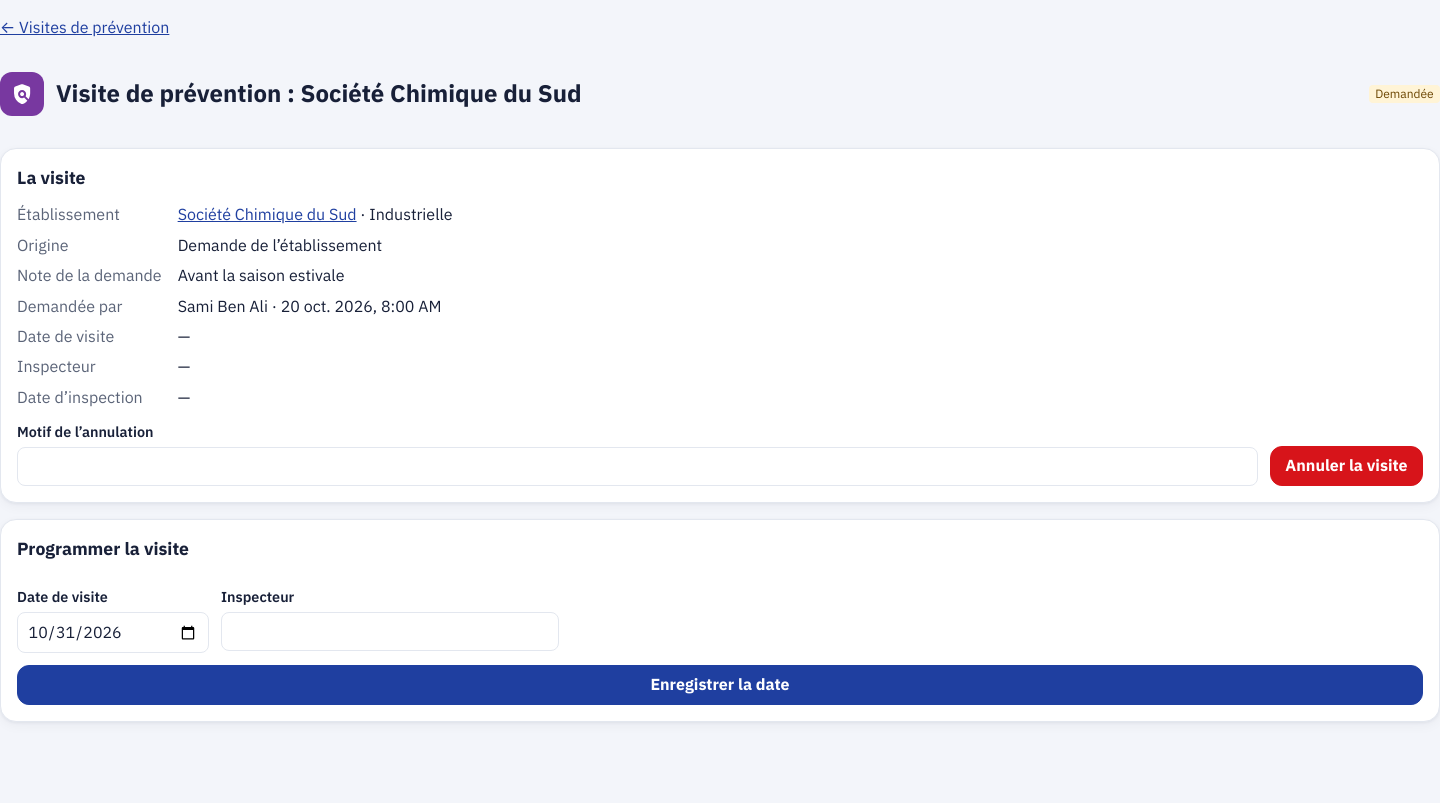
Test case: VisitPage › schedules a requested visit
In the date field labelled "Date de visite": (113, 632) [17,612,209,653], type "2030-01-10"
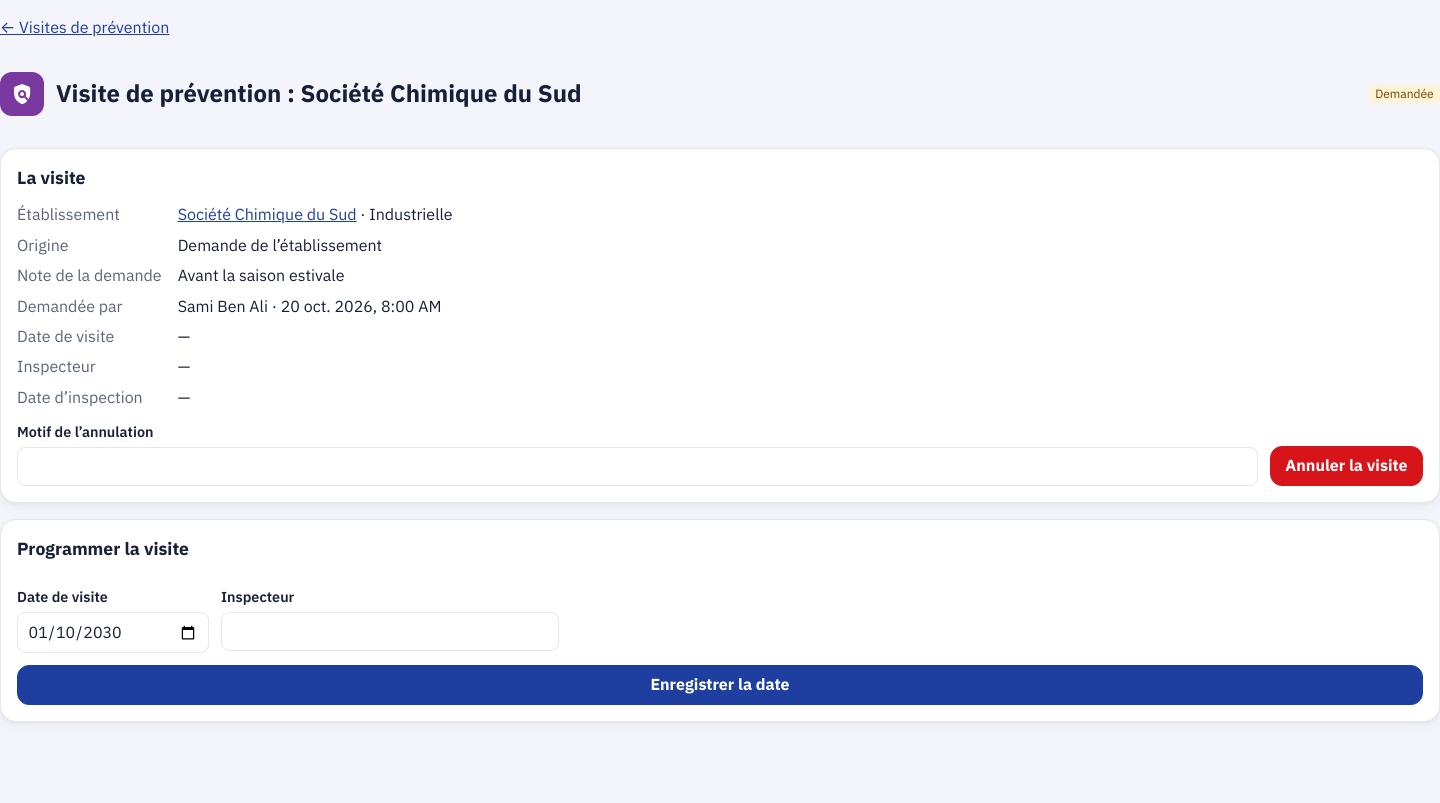
In the field labelled "Inspecteur": (390, 632) [221,612,559,651], type "Cdt Ben Salah"
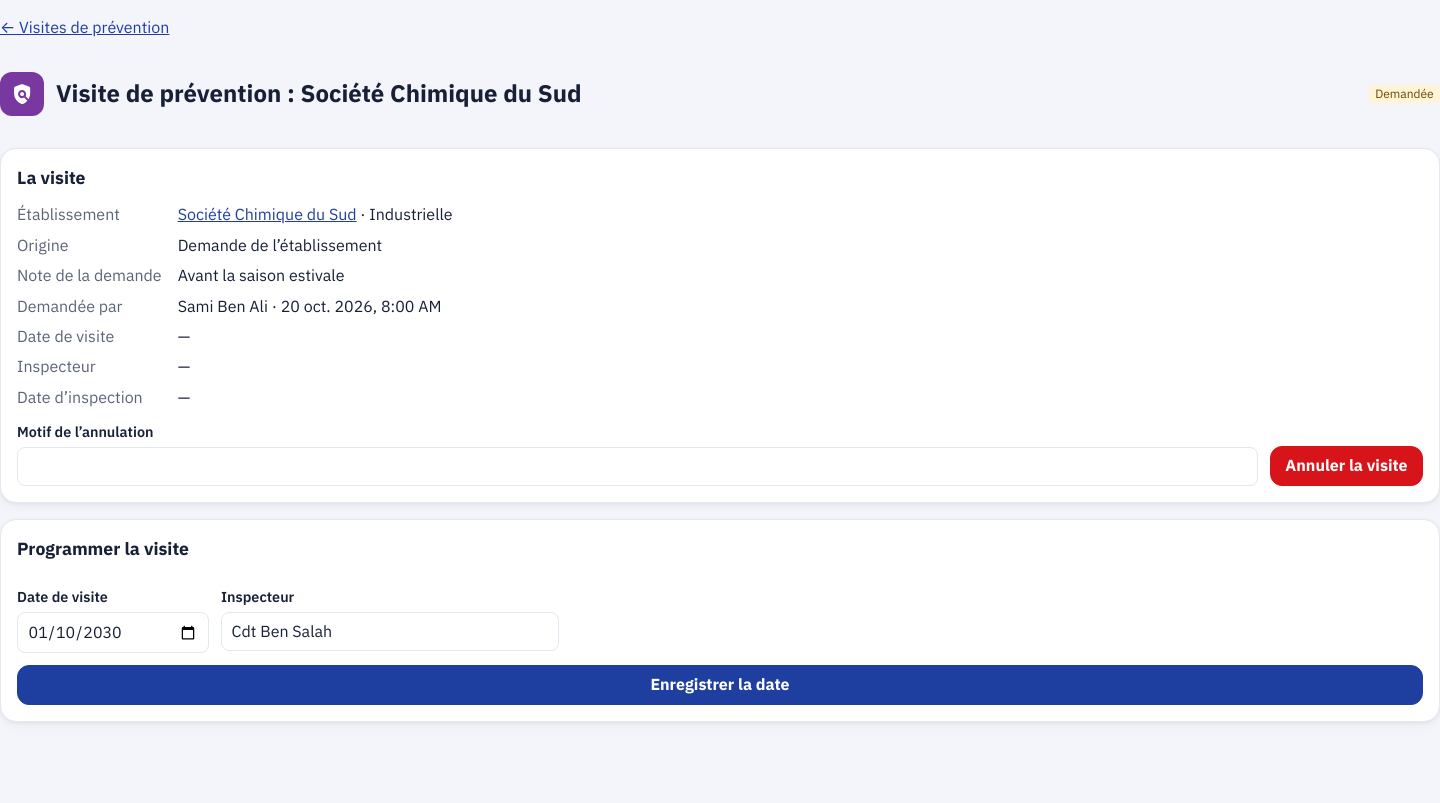
Click the button "Enregistrer la date": (720, 685) [17,665,1423,705]
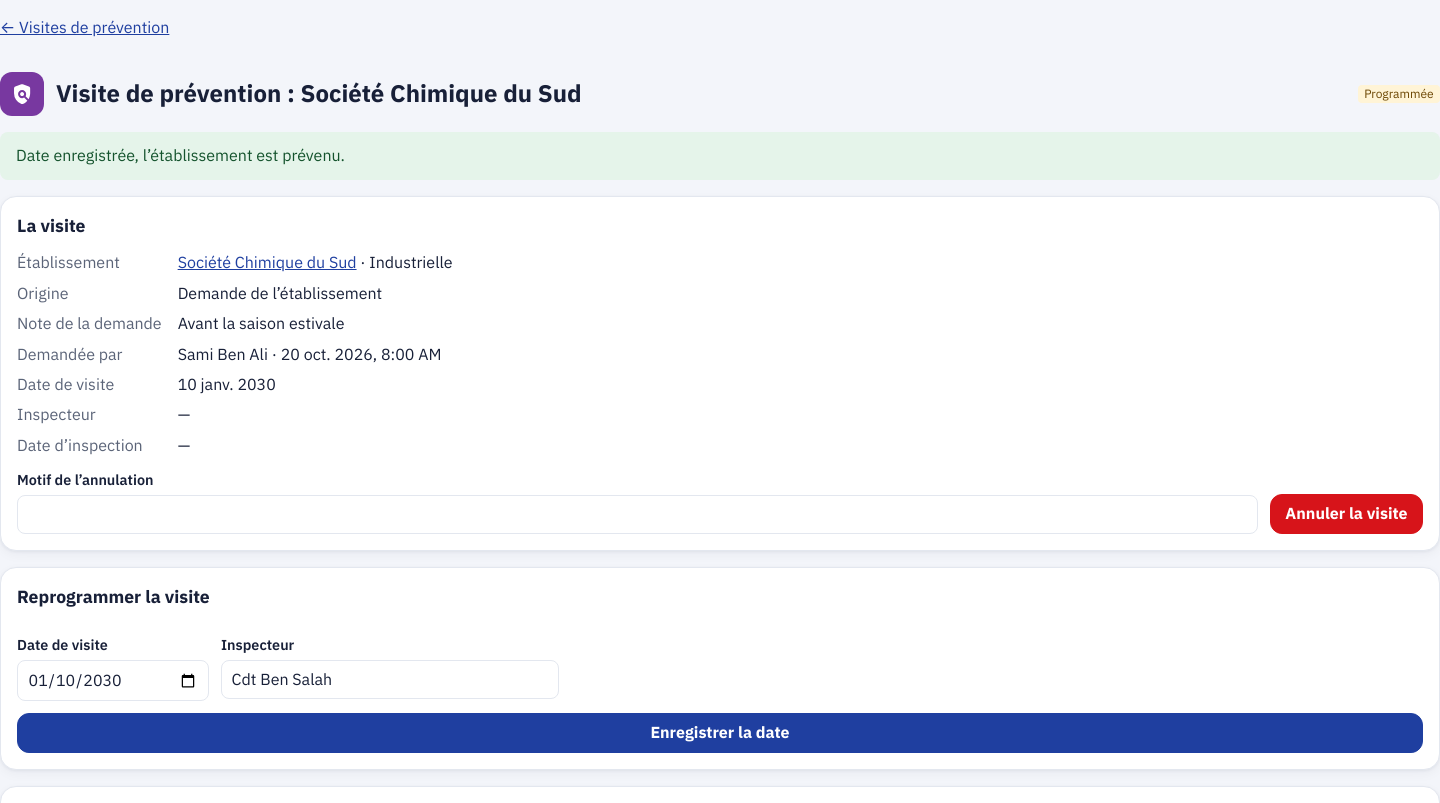
Expected: the text "Date enregistrée, l’établissement est prévenu." is shown, [0,132,1439,180]
